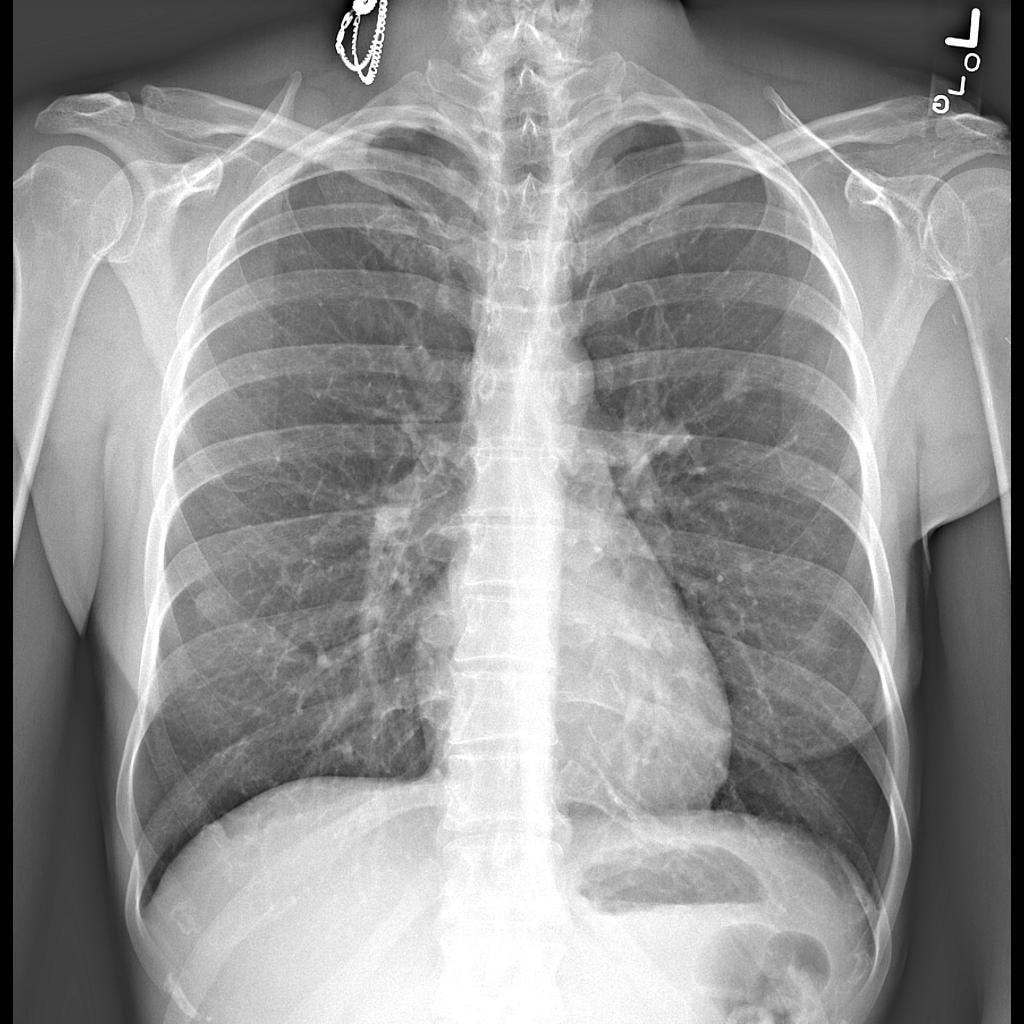Nodule: (723, 358, 765, 404), (185, 583, 226, 626)
